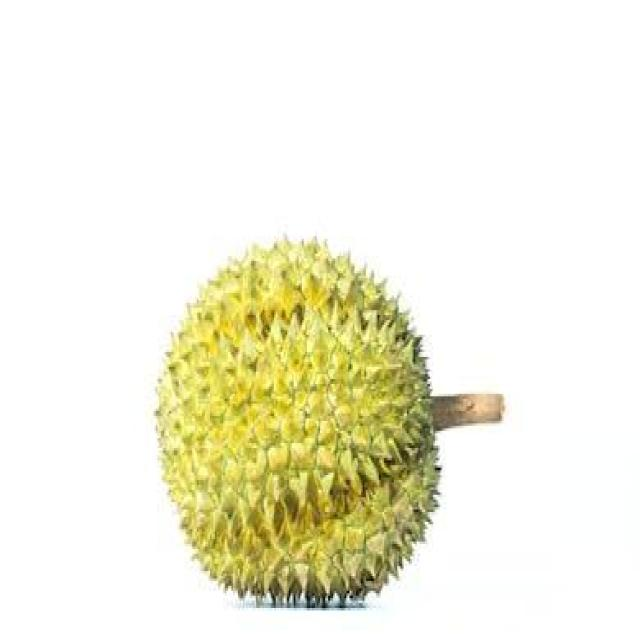immature: (157, 231, 444, 611)
